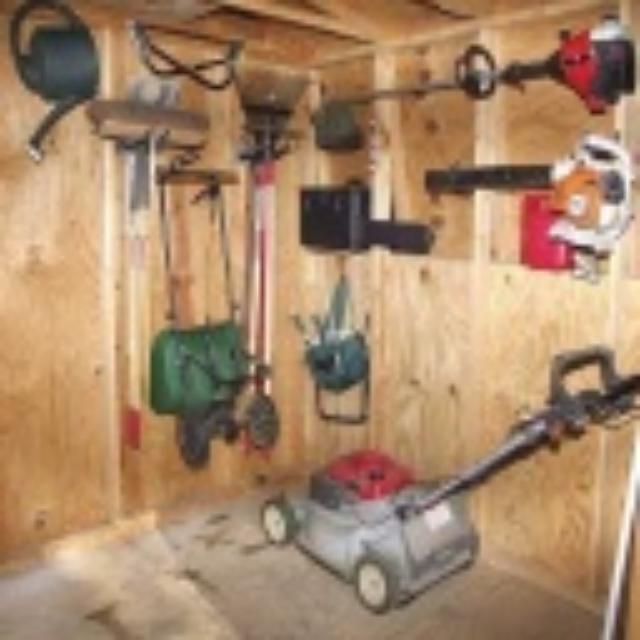Rotary-Mower: (249, 348, 639, 628)
